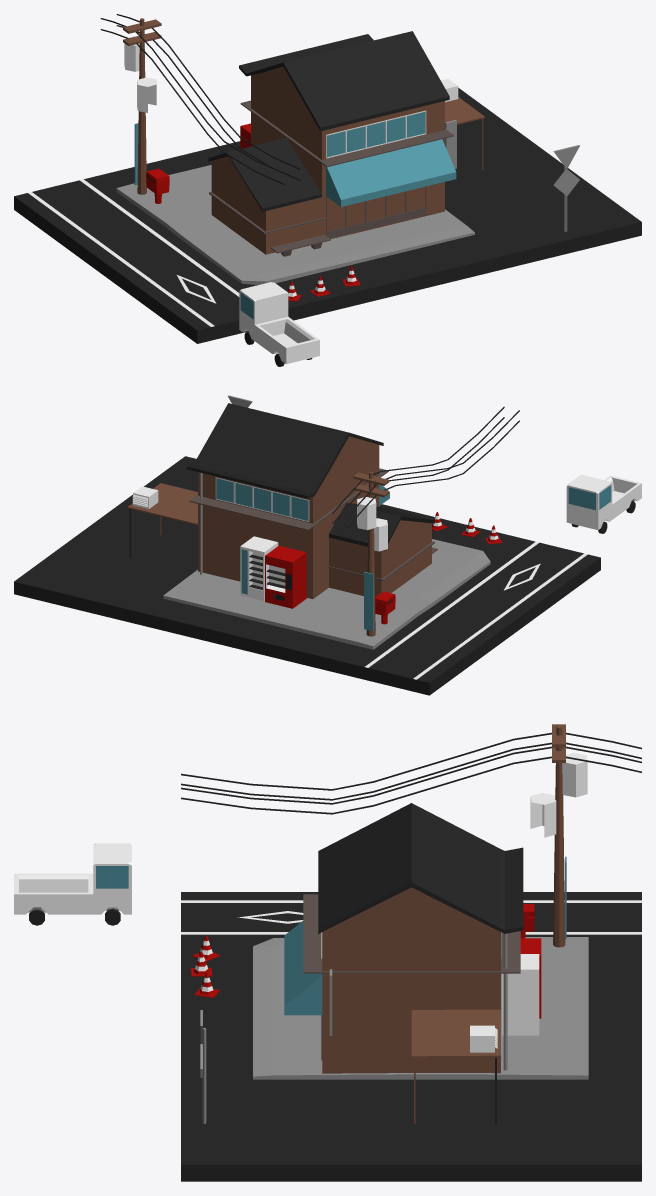
The model's file is paysage.gltf.
The picture shows the model from 3 angles, top to bottom: view 1: azimuth 30°, elevation 25°; view 2: azimuth 150°, elevation 25°; view 3: azimuth 270°, elevation 25°; orthographic projection. The views are drawn at different scales.
Visible parts, largest first — view 1: trottoir, house, Car, Cable, rebord.002, poteau, windowsLow, roadSign, electricBox.001, windows, banc, letterBox; view 2: trottoir, house, Car, box.002, Cable, MachineBoisson1, rebord.002, poteau, electricBox, poteau.Billboard, windows.001, letterBox (+1 smaller); view 3: trottoir, house, Car, Cable, rebord.002, MachineBoisson1, poteau, electricBox.001, box, tuyau.
Part boxes in pixels (bbox=[...]): trottoir: bbox=[14, 88, 641, 343]; house: bbox=[208, 31, 484, 254]; Car: bbox=[239, 282, 319, 364]; Cable: bbox=[100, 14, 300, 184]; rebord.002: bbox=[240, 100, 453, 167]; poteau: bbox=[135, 18, 146, 194]; windowsLow: bbox=[326, 186, 426, 238]; roadSign: bbox=[553, 145, 579, 231]; electricBox.001: bbox=[137, 77, 157, 112]; windows: bbox=[326, 110, 426, 158]; banc: bbox=[271, 234, 330, 256]; letterBox: bbox=[146, 168, 169, 194]; trottoir: bbox=[14, 456, 600, 695]; house: bbox=[127, 403, 434, 598]; Car: bbox=[566, 475, 641, 529]; box.002: bbox=[265, 545, 306, 608]; Cable: bbox=[332, 406, 519, 527]; MachineBoisson1: bbox=[240, 536, 278, 600]; rebord.002: bbox=[189, 468, 388, 530]; poteau: bbox=[366, 471, 375, 636]; electricBox: bbox=[357, 497, 376, 530]; poteau.Billboard: bbox=[364, 571, 373, 631]; windows.001: bbox=[215, 477, 309, 521]; letterBox: bbox=[375, 591, 395, 615]; trottoir: bbox=[181, 892, 641, 1181]; house: bbox=[284, 803, 523, 1123]; Car: bbox=[14, 843, 131, 914]; Cable: bbox=[181, 732, 641, 814]; rebord.002: bbox=[303, 894, 520, 973]; MachineBoisson1: bbox=[502, 954, 539, 1035]; poteau: bbox=[553, 725, 575, 947]; electricBox.001: bbox=[530, 793, 556, 837]; box: bbox=[470, 1025, 494, 1052]; tuyau: bbox=[503, 933, 507, 1070].
Size of the model in its own units: 2.8 by 1.15 by 2.72.
